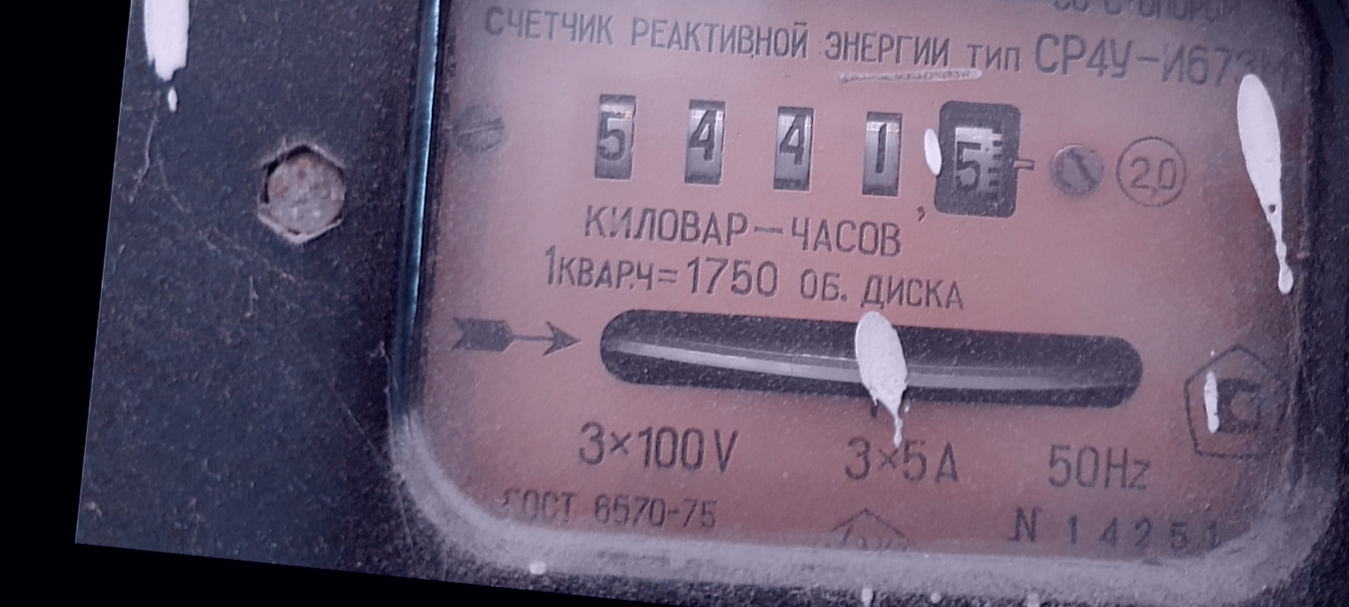1: (866, 119, 896, 179)
4: (772, 106, 815, 175), (684, 102, 725, 167)
5: (949, 134, 990, 200), (591, 106, 635, 167)
screen: (565, 39, 1052, 252)
